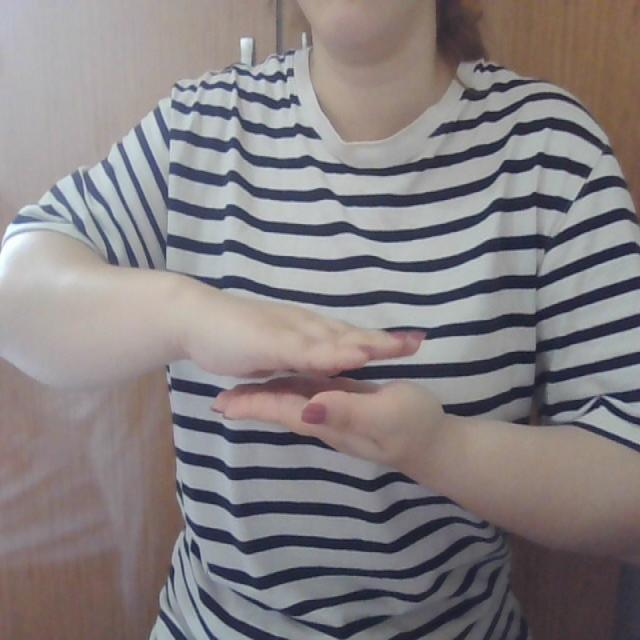Arkadas: (134, 275, 536, 466)
